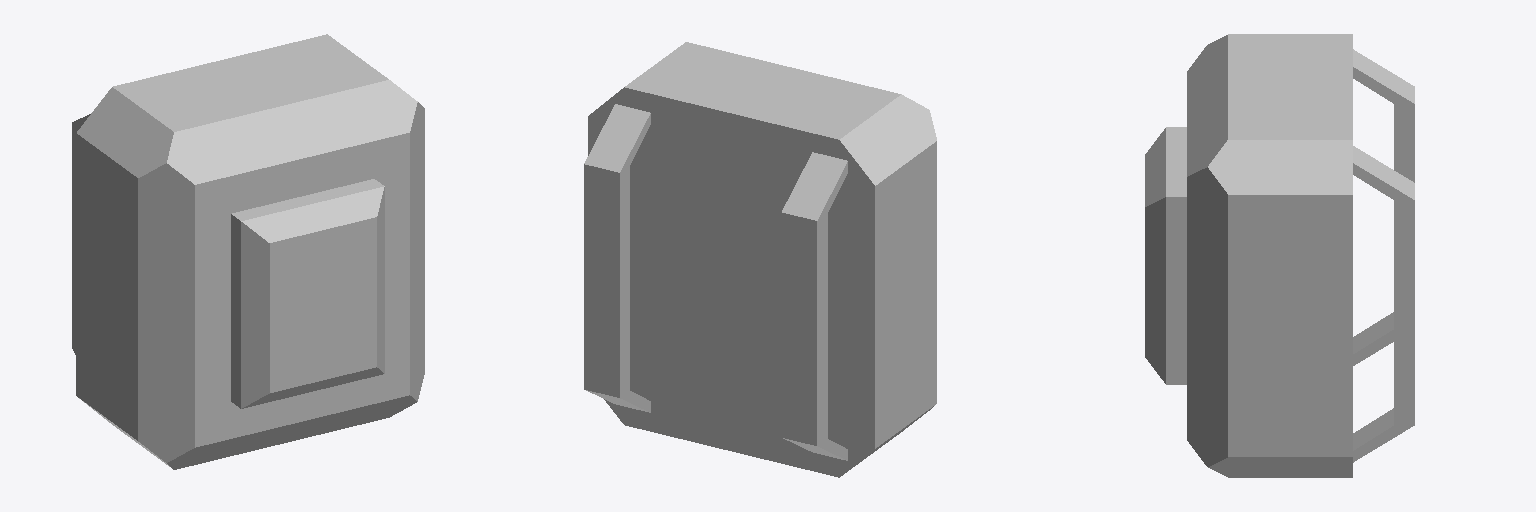
File: bag.obj
The picture shows the model from 3 angles: view 1: azimuth 30°, elevation 25°; view 2: azimuth 150°, elevation 25°; view 3: azimuth 270°, elevation 25°; orthographic projection.
Parts seen in each view (by area): view 1: entity0_brush1, entity0_brush0, entity0_brush5; view 2: entity0_brush1, entity0_brush5, entity0_brush4, entity0_brush7, entity0_brush6, entity0_brush2, entity0_brush3; view 3: entity0_brush1, entity0_brush0, entity0_brush4, entity0_brush6, entity0_brush7, entity0_brush5, entity0_brush2, entity0_brush3.
Boxes of the visible parts, x1,y1,x2,y2 form: entity0_brush1: [76, 34, 424, 469]; entity0_brush0: [231, 179, 384, 408]; entity0_brush5: [72, 123, 79, 349]; entity0_brush1: [588, 42, 936, 477]; entity0_brush5: [781, 212, 827, 445]; entity0_brush4: [584, 164, 629, 397]; entity0_brush7: [584, 104, 650, 172]; entity0_brush6: [782, 152, 847, 220]; entity0_brush2: [586, 390, 650, 412]; entity0_brush3: [783, 438, 847, 460]; entity0_brush1: [1187, 34, 1352, 477]; entity0_brush0: [1145, 127, 1186, 384]; entity0_brush4: [1394, 200, 1414, 425]; entity0_brush6: [1353, 49, 1414, 103]; entity0_brush7: [1353, 146, 1414, 199]; entity0_brush5: [1394, 104, 1414, 182]; entity0_brush2: [1353, 408, 1412, 462]; entity0_brush3: [1353, 312, 1393, 365].
Size of the model in its own units: 128 by 144 by 104.